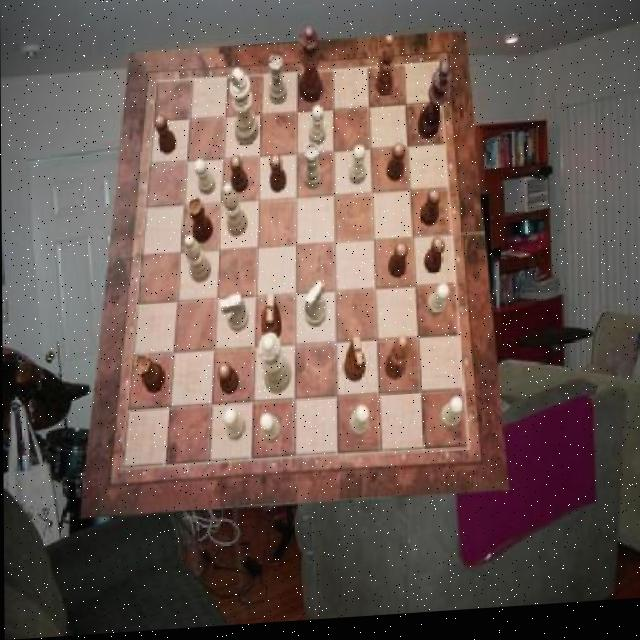bishop: (374, 40, 395, 102), (383, 340, 407, 386)
black-bishop: (416, 66, 452, 146)
black-king: (343, 339, 366, 386), (260, 298, 281, 346)
black-knight: (153, 117, 176, 158), (386, 148, 406, 187), (418, 196, 438, 233), (424, 245, 445, 280), (388, 248, 408, 284), (216, 365, 236, 400), (269, 157, 286, 197), (230, 158, 247, 197)
black-pawn: (299, 29, 322, 108)
black-queen: (133, 355, 164, 398), (186, 200, 212, 247)
black-rook: (223, 186, 248, 241), (184, 238, 211, 287)
white-bishop: (228, 70, 258, 149)
white-king: (219, 296, 247, 336), (304, 284, 327, 332)
white-knight: (438, 402, 463, 437), (192, 160, 215, 198), (222, 410, 244, 446), (425, 290, 448, 324), (348, 410, 369, 444), (307, 109, 324, 150), (347, 150, 364, 190), (259, 418, 280, 446)
white-pawn: (257, 336, 290, 399)
white-queen: (301, 146, 321, 193), (269, 59, 287, 109)
